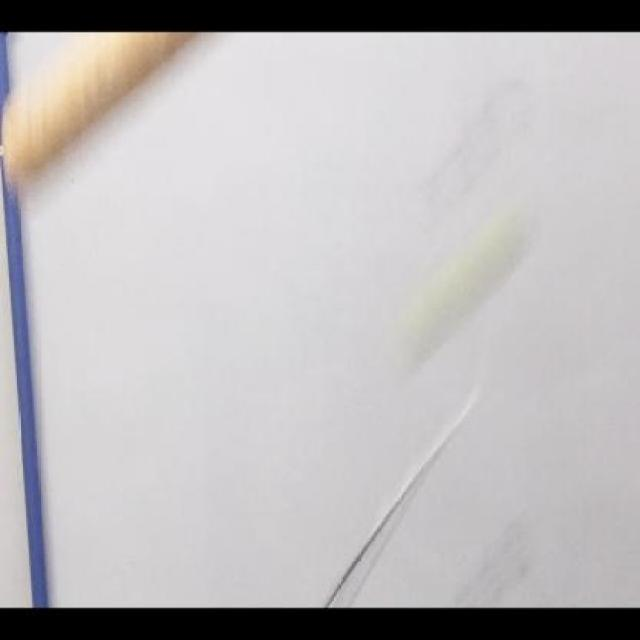baseball: (387, 200, 538, 374)
